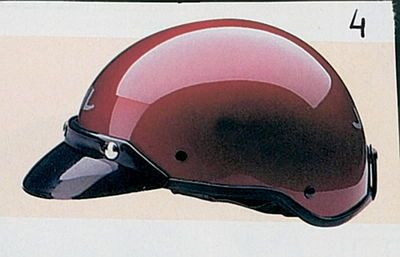helmet: (89, 19, 374, 182)
